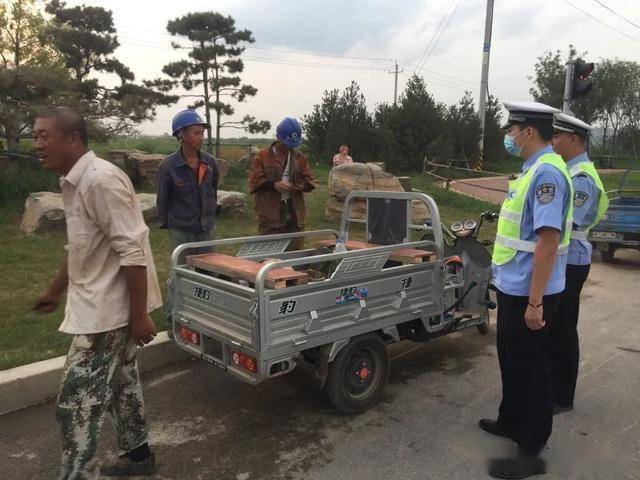empty: (167, 185, 490, 427)
